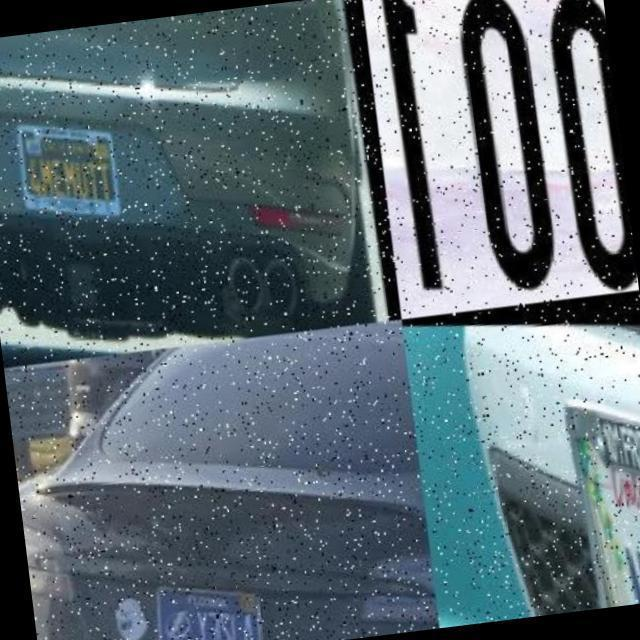license_plate: (362, 0, 637, 316), (551, 383, 640, 611), (8, 106, 120, 222), (150, 577, 258, 640)
